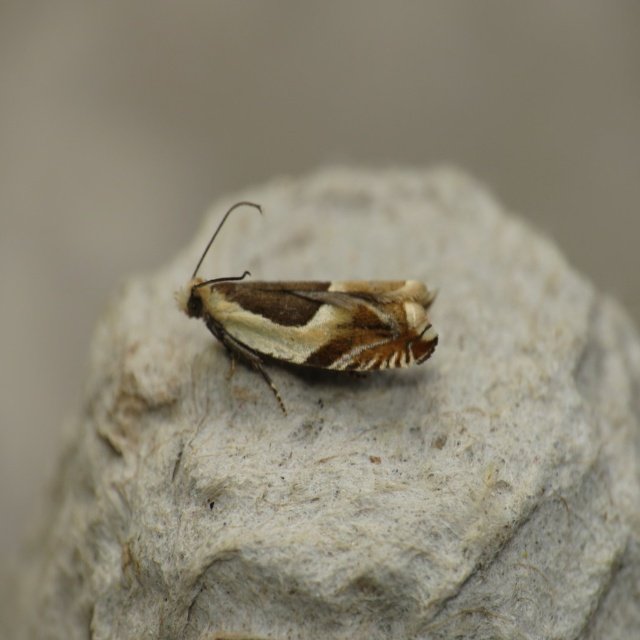Moths and butterflies: (172, 197, 442, 419)
